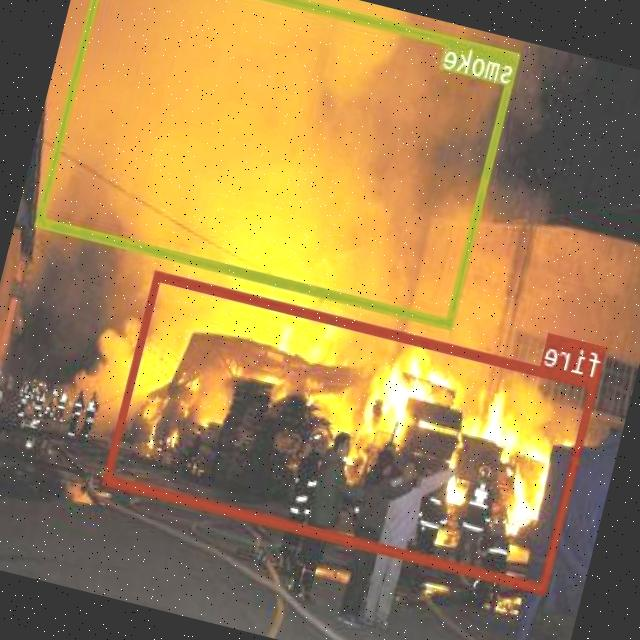fire: (104, 270, 598, 592)
smoke: (36, 0, 521, 327)
